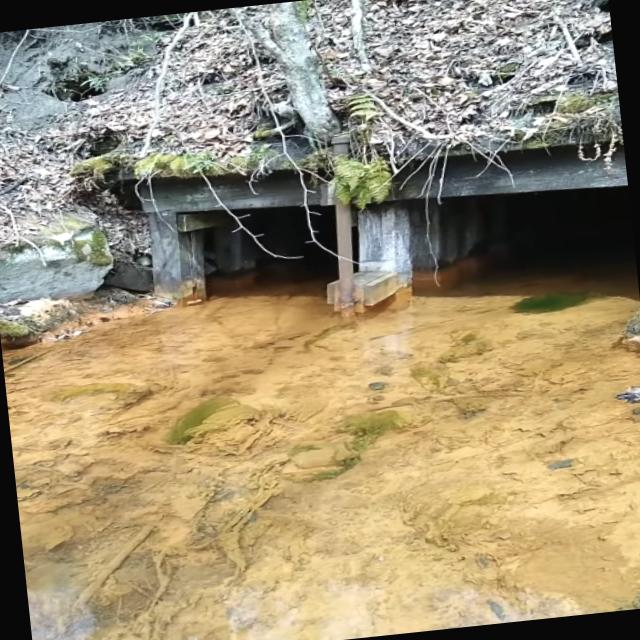yellow_boy: (6, 261, 640, 640)
